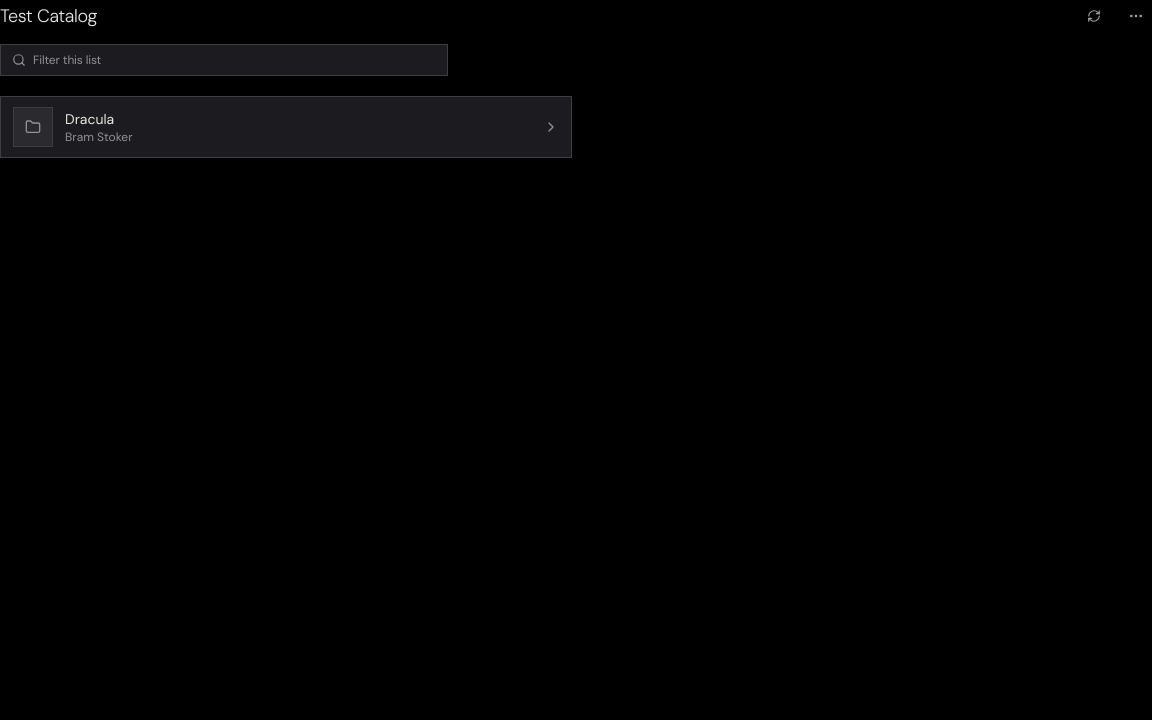
catalog navigation › opens a list that is a single book as that book
Click the button "Dracula Bram Stoker". click: (33, 127)
box: x1=0 y1=96 x2=572 y2=158
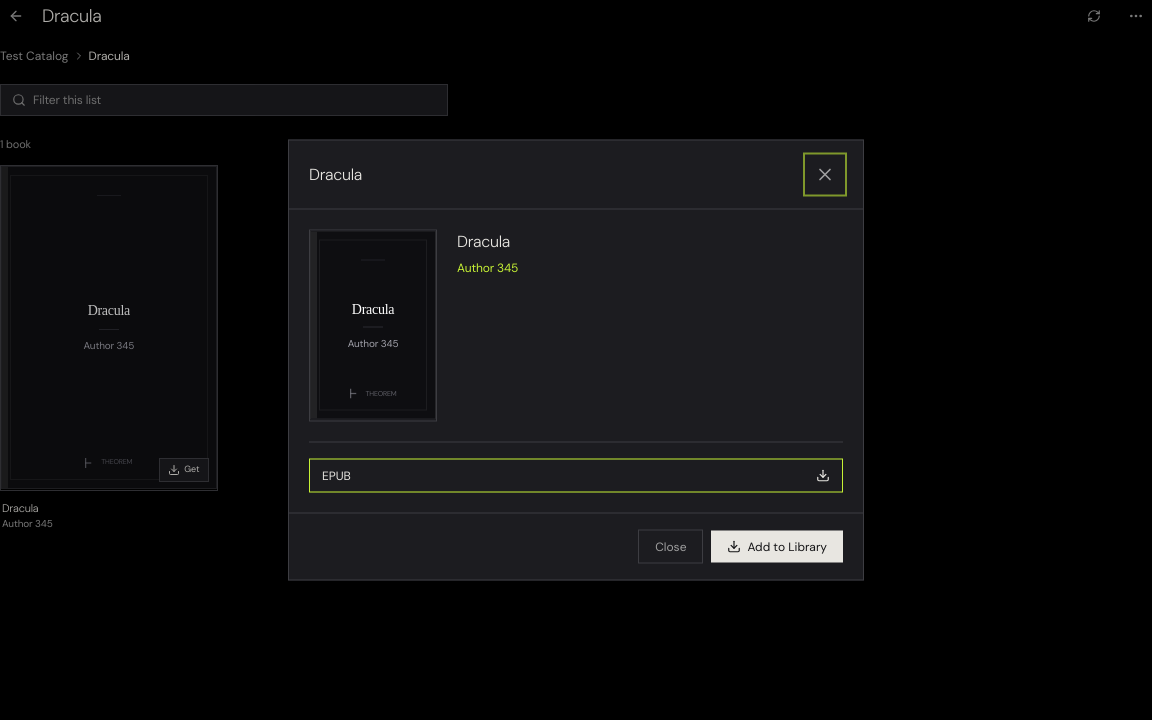
Result: the dialog is shown at x1=288 y1=140 x2=864 y2=580
